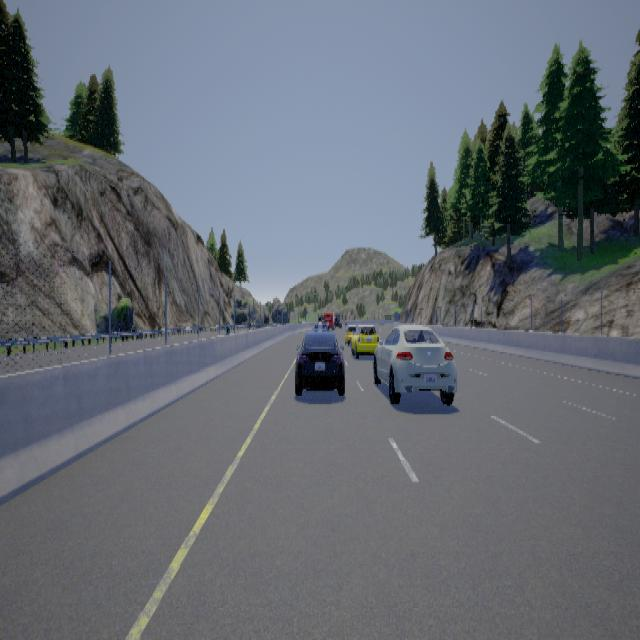vehicle: (373, 324, 456, 414), (294, 312, 344, 394), (344, 320, 380, 360)
